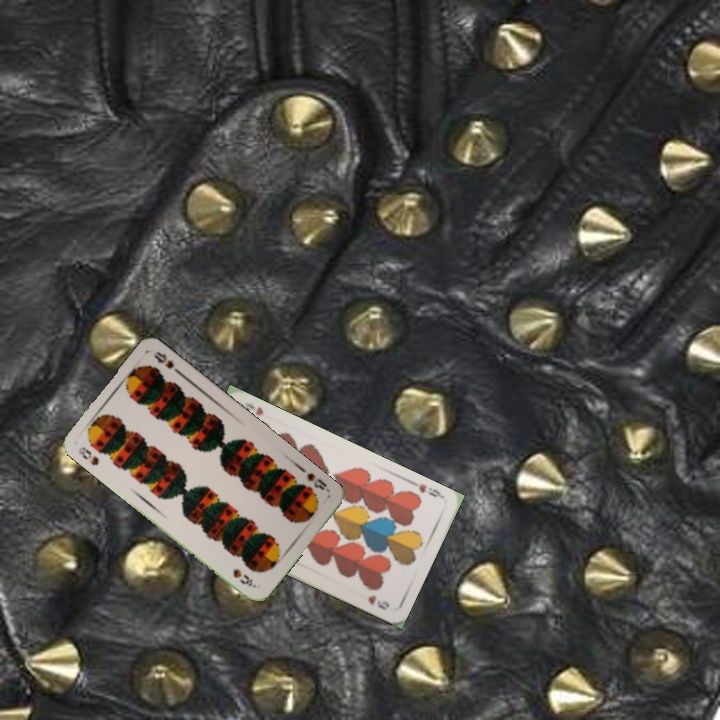H9: (408, 477, 446, 501)
S8: (303, 469, 333, 495), (74, 442, 102, 468)
